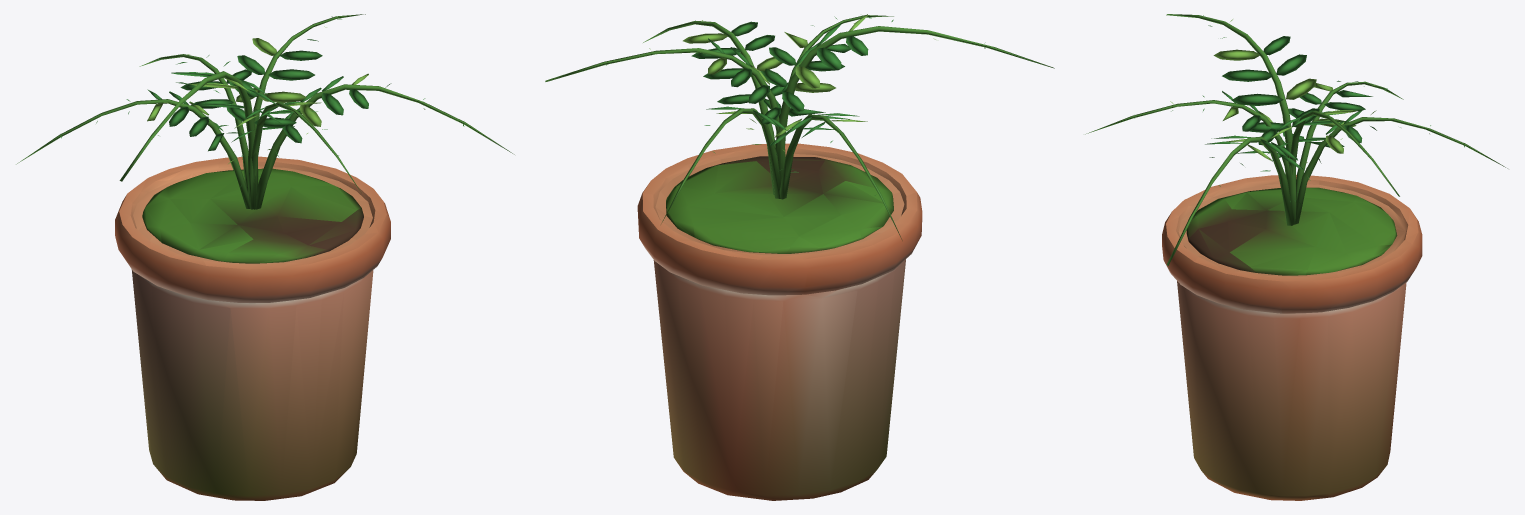
The model's file is canopy_pot_plant_b_lod1.glb.
3 renders of one model, left to right at view 1: azimuth 30°, elevation 25°; view 2: azimuth 150°, elevation 25°; view 3: azimuth 270°, elevation 25°, orthographic. The views are drawn at different scales.
Parts seen in each view (by area): view 1: canopy_pot_plant_b.001; view 2: canopy_pot_plant_b.001; view 3: canopy_pot_plant_b.001.
Part boxes in pixels (bbox=[...]): canopy_pot_plant_b.001: bbox=[16, 14, 514, 500]; canopy_pot_plant_b.001: bbox=[545, 14, 1054, 500]; canopy_pot_plant_b.001: bbox=[1085, 14, 1507, 500].
Bounding box in the file's own units: 5.39 × 5.4 × 5.3.
